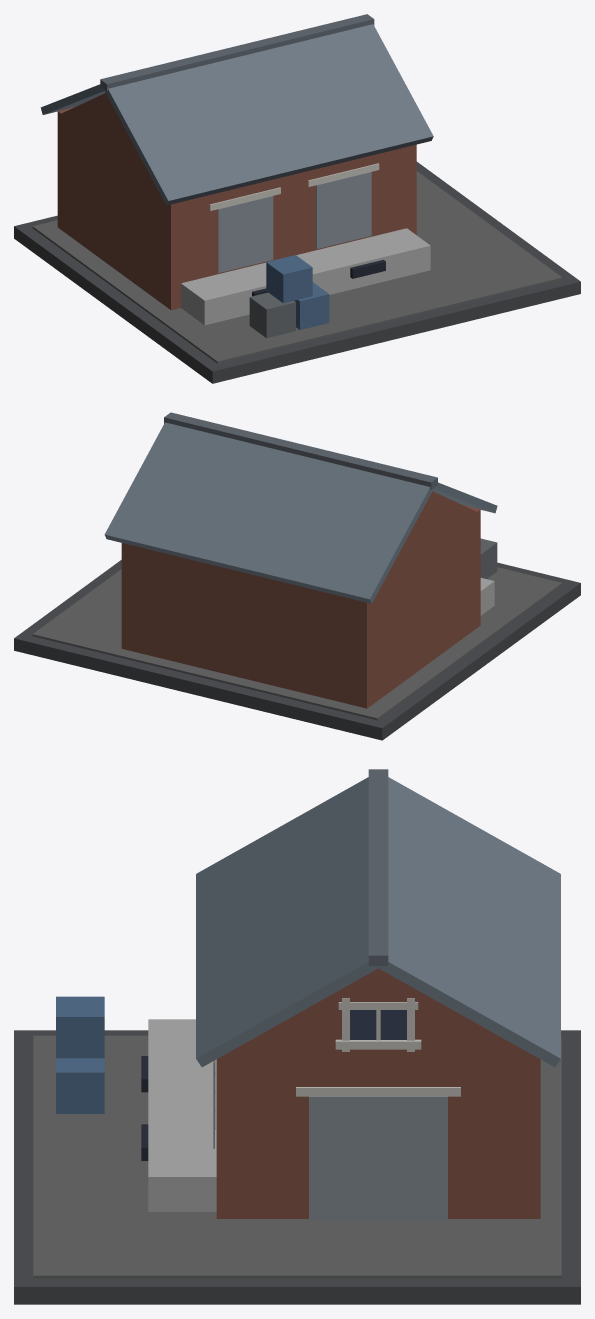
File: warehouse_lvl1.glb
3 views of the same model, one above another, from view 1: azimuth 30°, elevation 25°; view 2: azimuth 150°, elevation 25°; view 3: azimuth 270°, elevation 25° (orthographic). The views are drawn at different scales.
Parts seen in each view (by area): view 1: warehouse; view 2: warehouse; view 3: warehouse.
Boxes of the visible parts, x1,y1,x2,y2 form: warehouse: (14, 14, 580, 383); warehouse: (14, 412, 580, 740); warehouse: (14, 769, 580, 1304).
Size of the model in its own units: 0.6818 by 0.3609 by 0.6364.
